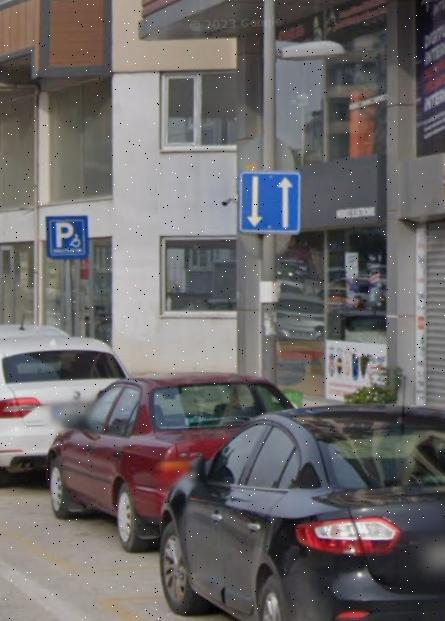disabledpark: (41, 210, 93, 263)
